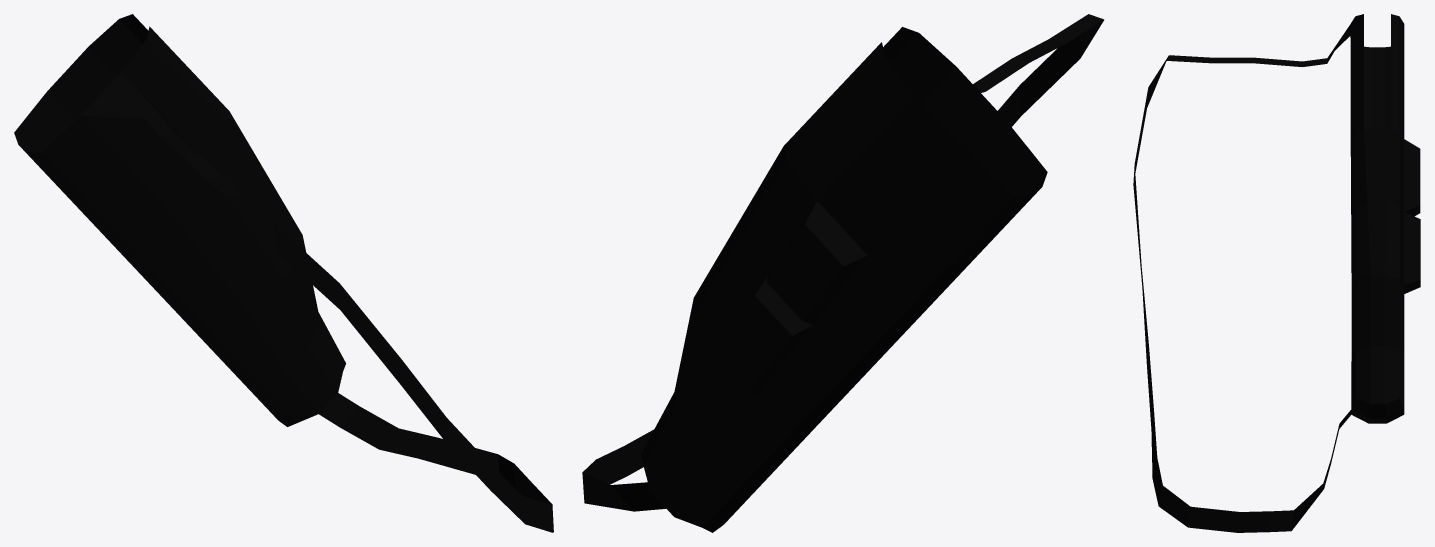
The model's file is Ar-35 Rifle Holster.fbx.
3 renders of one model, left to right at view 1: azimuth 30°, elevation 25°; view 2: azimuth 150°, elevation 25°; view 3: azimuth 270°, elevation 25°, orthographic. The views are drawn at different scales.
Visible parts, largest first — view 1: AR-35 Rifle Holster; view 2: AR-35 Rifle Holster; view 3: AR-35 Rifle Holster.
Boxes of the visible parts, <box> form: AR-35 Rifle Holster: <box>14,14,553,532</box>; AR-35 Rifle Holster: <box>582,14,1104,532</box>; AR-35 Rifle Holster: <box>1133,14,1420,532</box>.
Size of the model in its own units: 0.4263 by 0.4778 by 0.3109.
